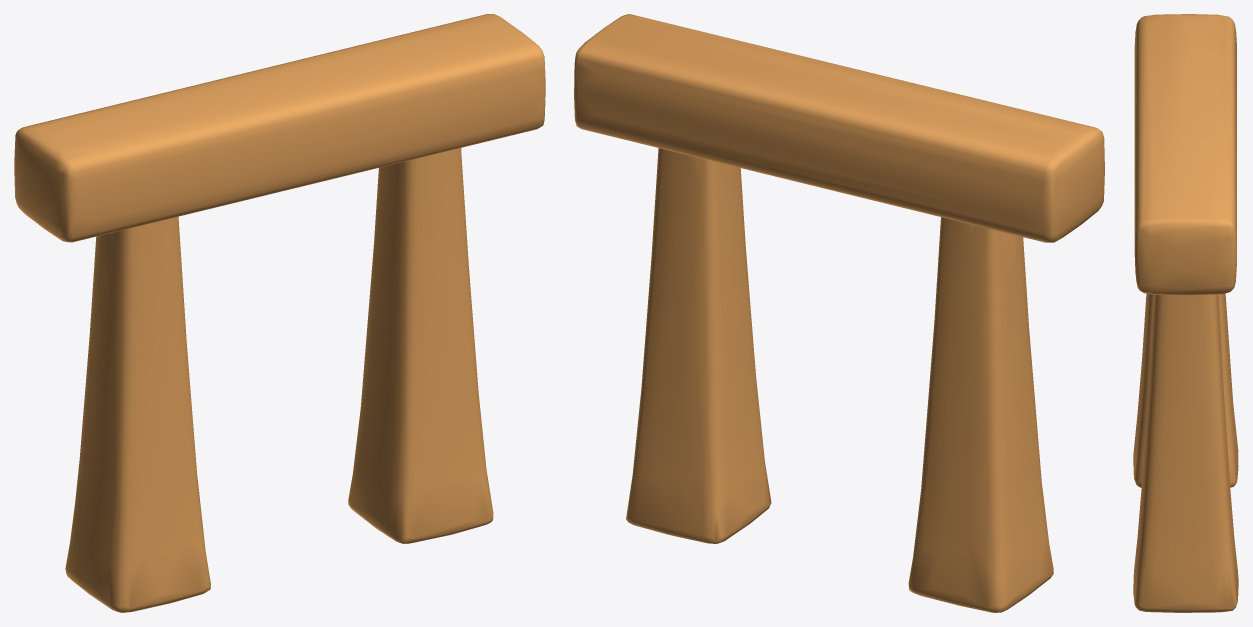
File: EnemyGate.fbx
3 views of the same model, side by side, from view 1: azimuth 30°, elevation 25°; view 2: azimuth 150°, elevation 25°; view 3: azimuth 270°, elevation 25° (orthographic). The views are drawn at different scales.
Parts seen in each view (by area): view 1: EnemyGate; view 2: EnemyGate; view 3: EnemyGate.
Part boxes in pixels (box(x1,y1,x2,y2)): EnemyGate: box(14, 14, 545, 612); EnemyGate: box(574, 14, 1104, 612); EnemyGate: box(1133, 14, 1238, 612).
Size of the model in its own units: 6.22 by 5.73 by 1.31.
